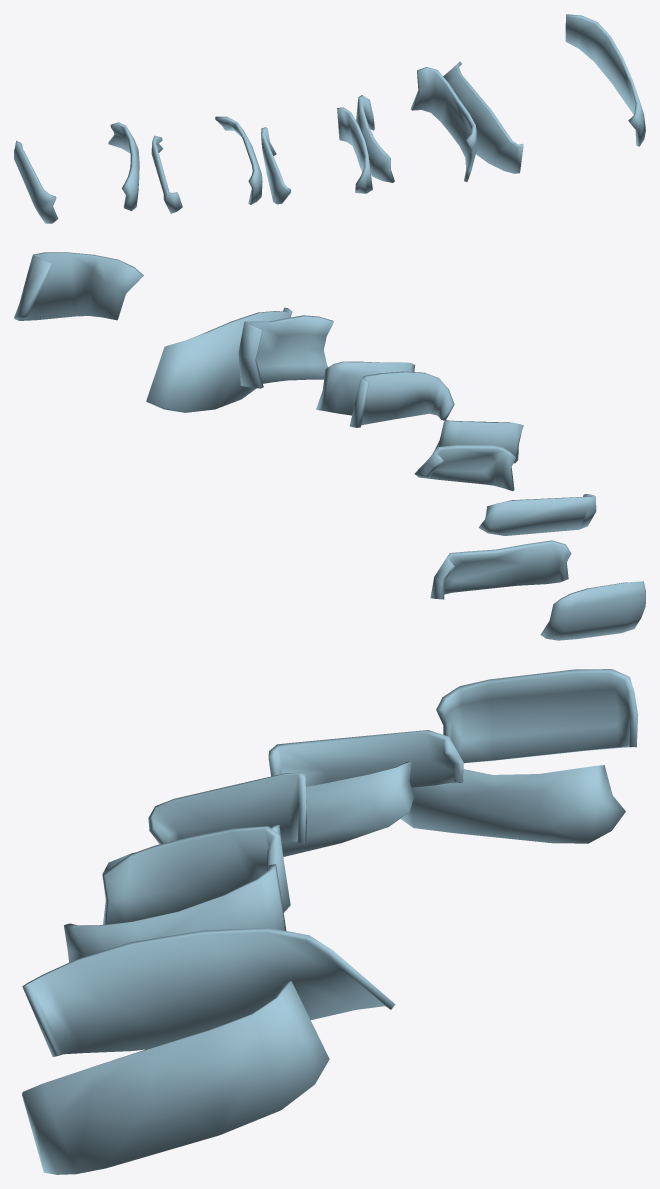
Rendered from articulacoes-collateral-metatarsophalangeal-ligaments-r.glb.
3 views of the same model, one above another, from view 1: azimuth 30°, elevation 25°; view 2: azimuth 150°, elevation 25°; view 3: azimuth 270°, elevation 25° (orthographic). The views are drawn at different scales.
Parts seen in each view (by area): view 1: Collateral metatarsophalangeal ligaments.r; view 2: Collateral metatarsophalangeal ligaments.r; view 3: Collateral metatarsophalangeal ligaments.r.
Boxes of the visible parts, x1,y1,x2,y2 form: Collateral metatarsophalangeal ligaments.r: (14, 14, 645, 223); Collateral metatarsophalangeal ligaments.r: (14, 252, 645, 640); Collateral metatarsophalangeal ligaments.r: (22, 669, 638, 1174).
Bounding box in the file's own units: 0.0821 × 0.0189 × 0.0424.
